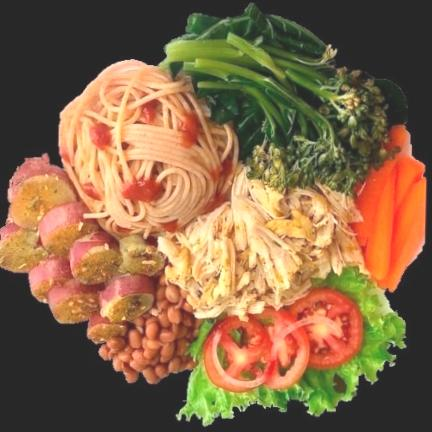beans: (99, 275, 202, 384), (146, 321, 159, 340)
carrot: (352, 159, 424, 292)
chicken: (159, 168, 364, 319)
green_vegetables: (165, 4, 395, 197)
pasta: (59, 61, 238, 238)
salad: (176, 269, 405, 426)
tomato: (203, 288, 362, 392)
